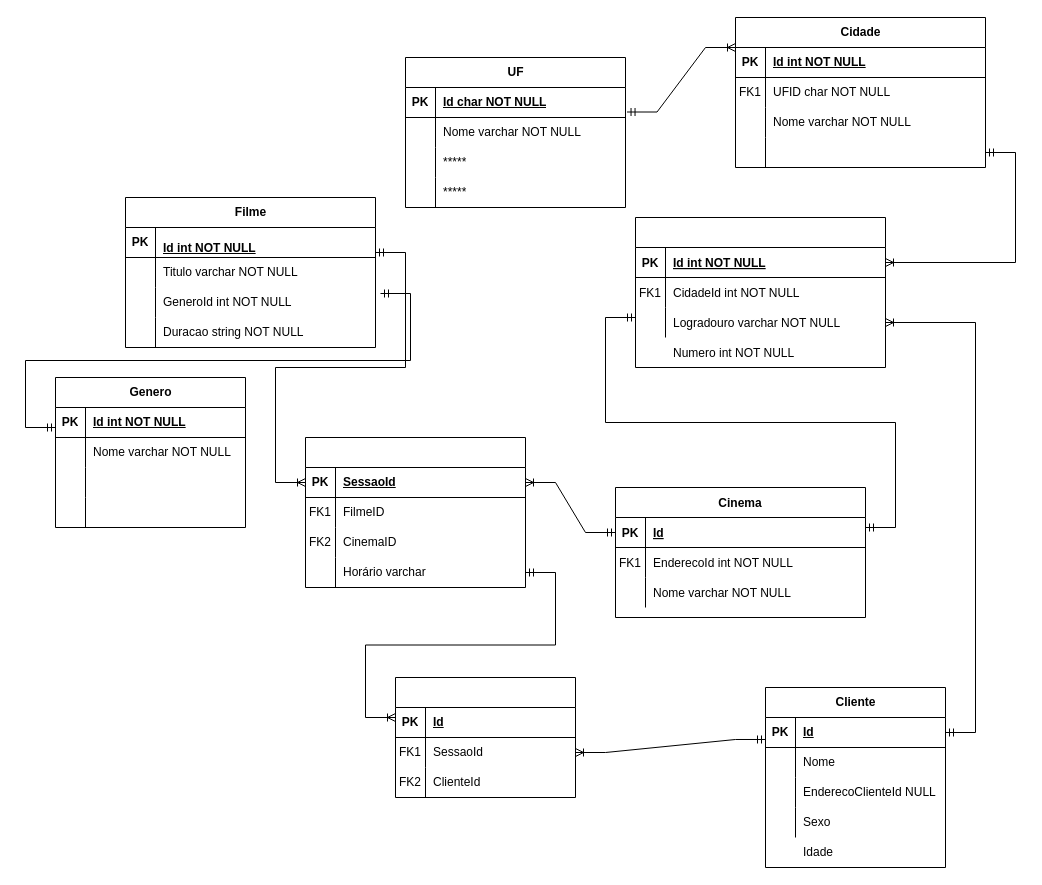
Image size: 1042x885. Some labels were removed from this diagram. The shapes that lost their labels are listed below. From the top down, each one's box as (x1, y1, x2, y2) in pixels, then its label:
(634, 216, 886, 368): Endereço
(304, 436, 526, 588): Sessão
(394, 676, 576, 798): Ingresso
